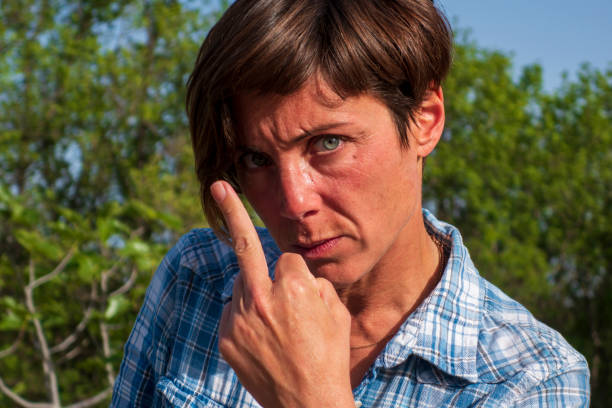insulting_gesture: (207, 177, 361, 408)
